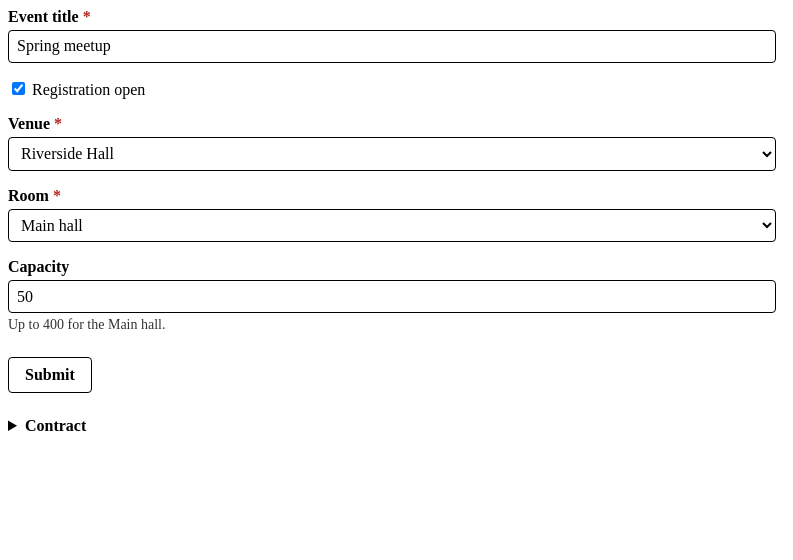
the React form of example 2 › a refused submit shows what was refused inline and in a summary
The width and height of the screenshot is (793, 560).
Select "Old Library" in the dropdown labelled "Venue*" at (392, 154), box [8,137,776,171]
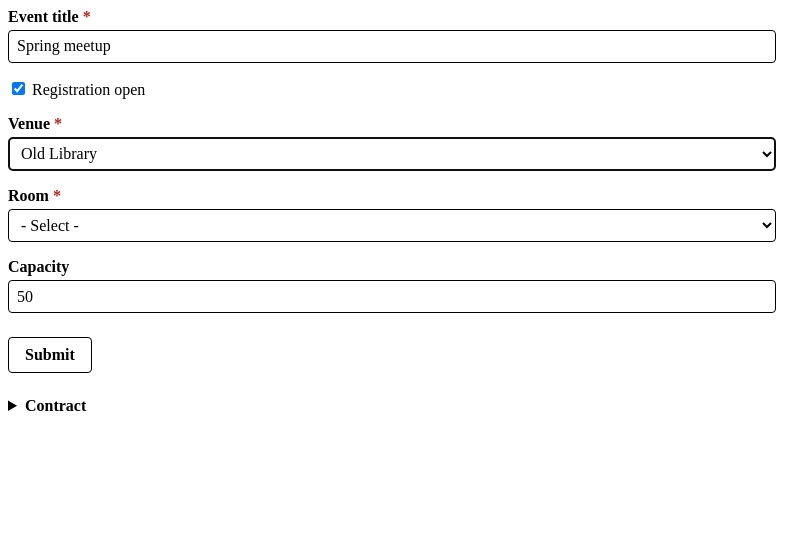
Result: the dropdown labelled "Room*" shows "- Select -" at [8,209,776,242]
Click the button "Submit" at (50, 355), box [8,337,92,373]
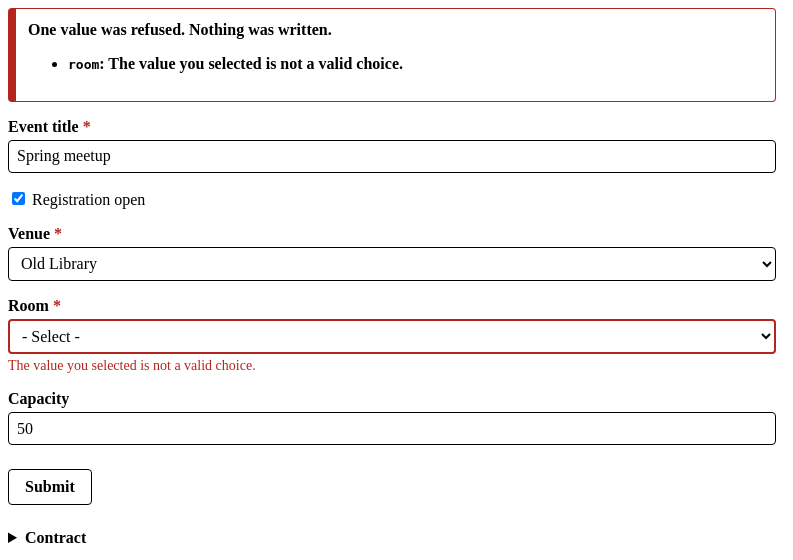
Result: the message that starts with "One value was refused" shows "One value was refused. Nothing was written." at [8,8,776,102]
Result: the message that starts with "One value was refused" shows "room: The value you selected is not a valid choice." at [8,8,776,102]
